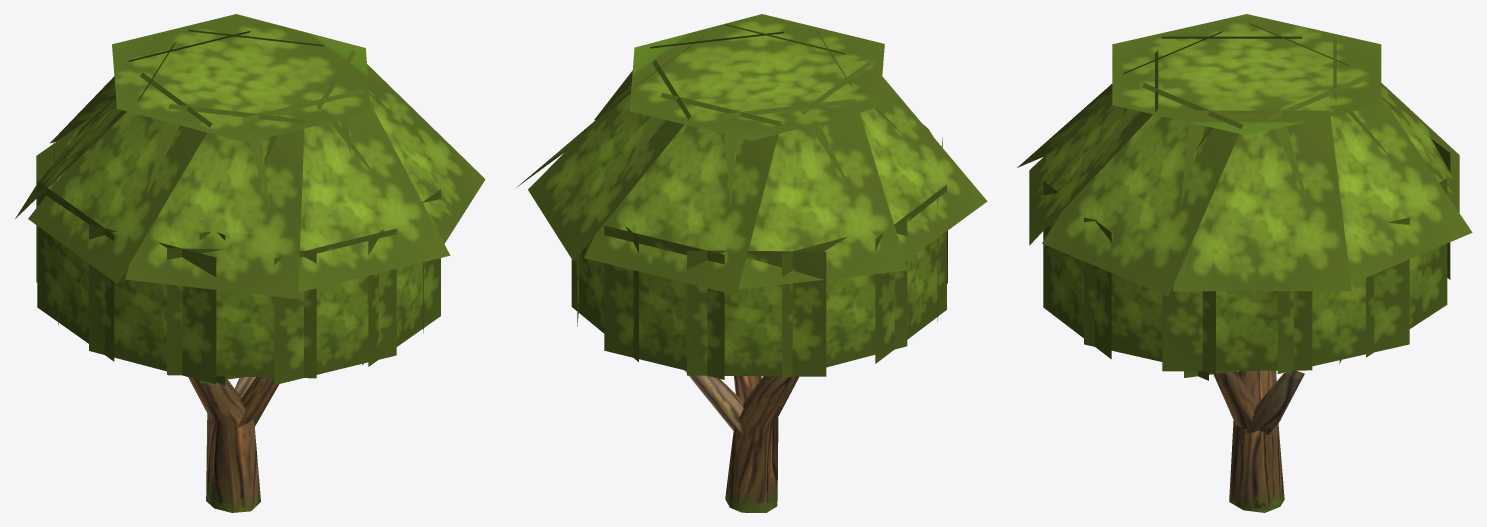
The model's file is City_tree_12.FBX.
3 renders of one model, left to right at view 1: azimuth 30°, elevation 25°; view 2: azimuth 150°, elevation 25°; view 3: azimuth 270°, elevation 25°, orthographic.
Visible parts, largest first — view 1: City_tree_12; view 2: City_tree_12; view 3: City_tree_12.
Boxes of the visible parts, x1,y1,x2,y2 form: City_tree_12: (15,14,485,512); City_tree_12: (516,14,987,512); City_tree_12: (1017,14,1472,512).
Bounding box in the file's own units: 419 × 436 × 419.
